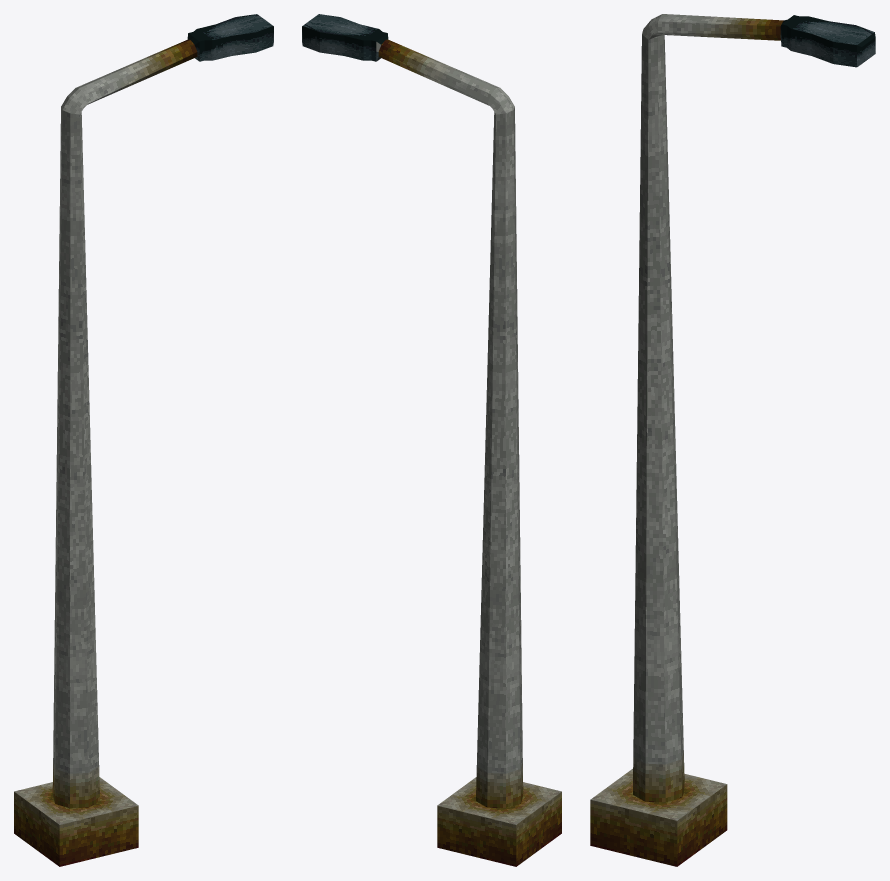
The model's file is street_light.glb.
The picture shows the model from 3 angles, left to right: view 1: azimuth 30°, elevation 25°; view 2: azimuth 150°, elevation 25°; view 3: azimuth 330°, elevation 25°; orthographic projection. The views are drawn at different scales.
Parts seen in each view (by area): view 1: street_light; view 2: street_light; view 3: street_light.
Boxes of the visible parts, x1,y1,x2,y2 form: street_light: (14,14,273,866); street_light: (302,14,561,866); street_light: (590,14,875,866).
Bounding box in the file's own units: 2.06 × 6.61 × 0.7063.
Materials: 2 (2 with a texture image).
